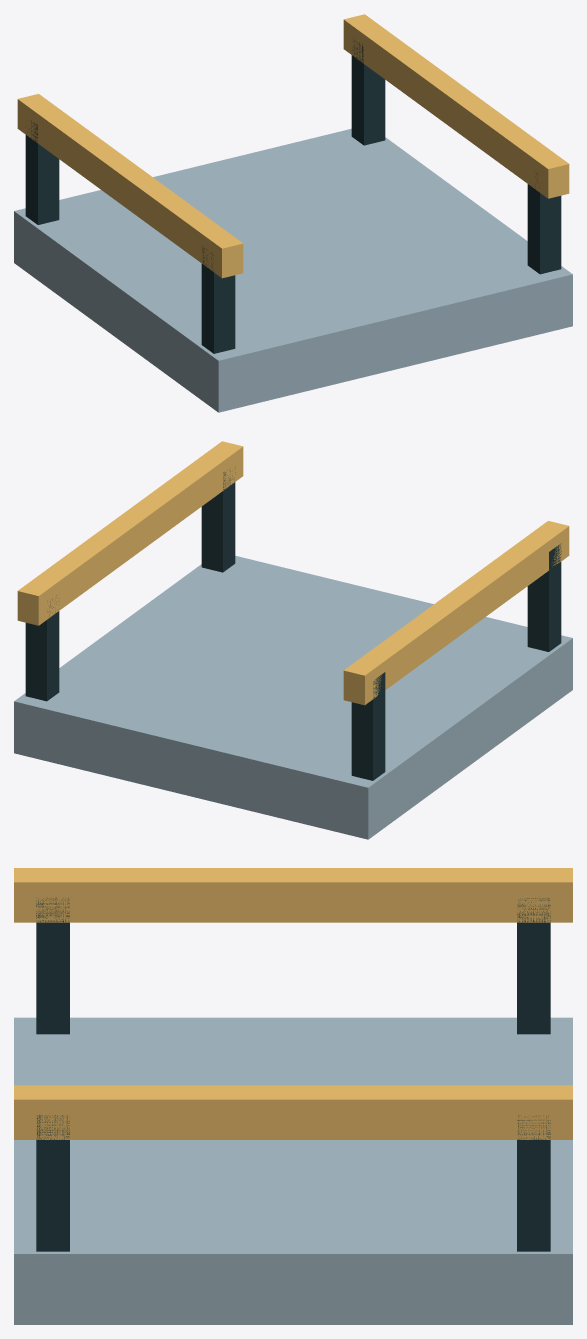
File: bridge-tile.glb
3 views of the same model, one above another, from view 1: azimuth 30°, elevation 25°; view 2: azimuth 150°, elevation 25°; view 3: azimuth 270°, elevation 25° (orthographic). The views are drawn at different scales.
Visible parts, largest first — view 1: deck, rail--1, rail-1, post--1-1, post-1-1, post-1--1, post--1--1; view 2: deck, rail-1, rail--1, post--1--1, post--1-1, post-1--1, post-1-1; view 3: deck, rail-1, rail--1, post--1-1, post--1--1, post-1-1, post-1--1.
Boxes of the visible parts, x1,y1,x2,y2 form: deck: [14, 128, 572, 412]; rail--1: [17, 94, 243, 278]; rail-1: [343, 14, 569, 198]; post--1-1: [201, 247, 235, 353]; post-1-1: [527, 173, 561, 274]; post-1--1: [351, 38, 385, 145]; post--1--1: [25, 121, 59, 224]; deck: [14, 555, 572, 839]; rail-1: [17, 441, 243, 625]; rail--1: [343, 521, 569, 705]; post--1--1: [351, 672, 385, 780]; post--1-1: [527, 543, 561, 651]; post-1--1: [25, 599, 59, 701]; post-1-1: [201, 470, 235, 572]; deck: [14, 1017, 572, 1324]; rail-1: [14, 1085, 572, 1139]; rail--1: [14, 868, 572, 922]; post--1-1: [36, 897, 69, 1034]; post--1--1: [517, 898, 550, 1034]; post-1-1: [36, 1115, 69, 1251]; post-1--1: [517, 1115, 550, 1251].
Bounding box in the file's own units: 1 × 0.44 × 1.
